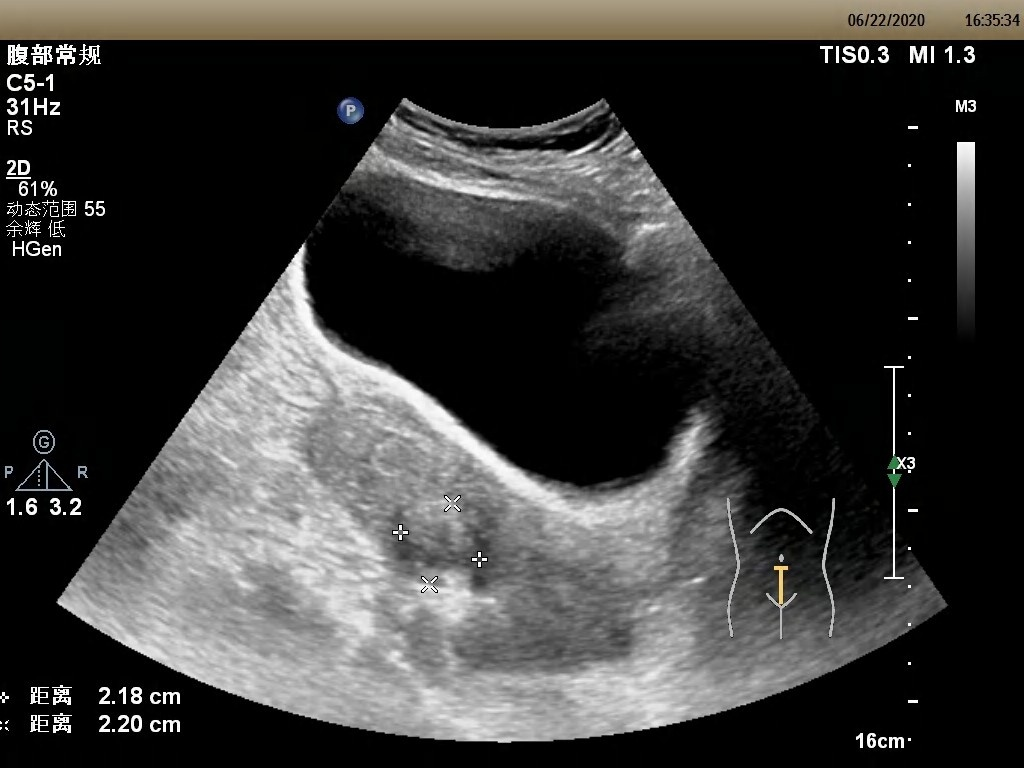肌瘤: (394, 499, 484, 575)
